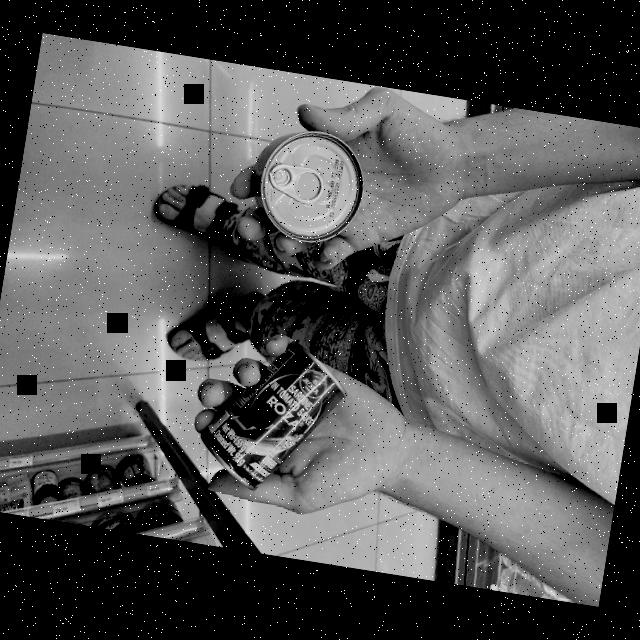can: (190, 318, 358, 506), (251, 122, 374, 254)
